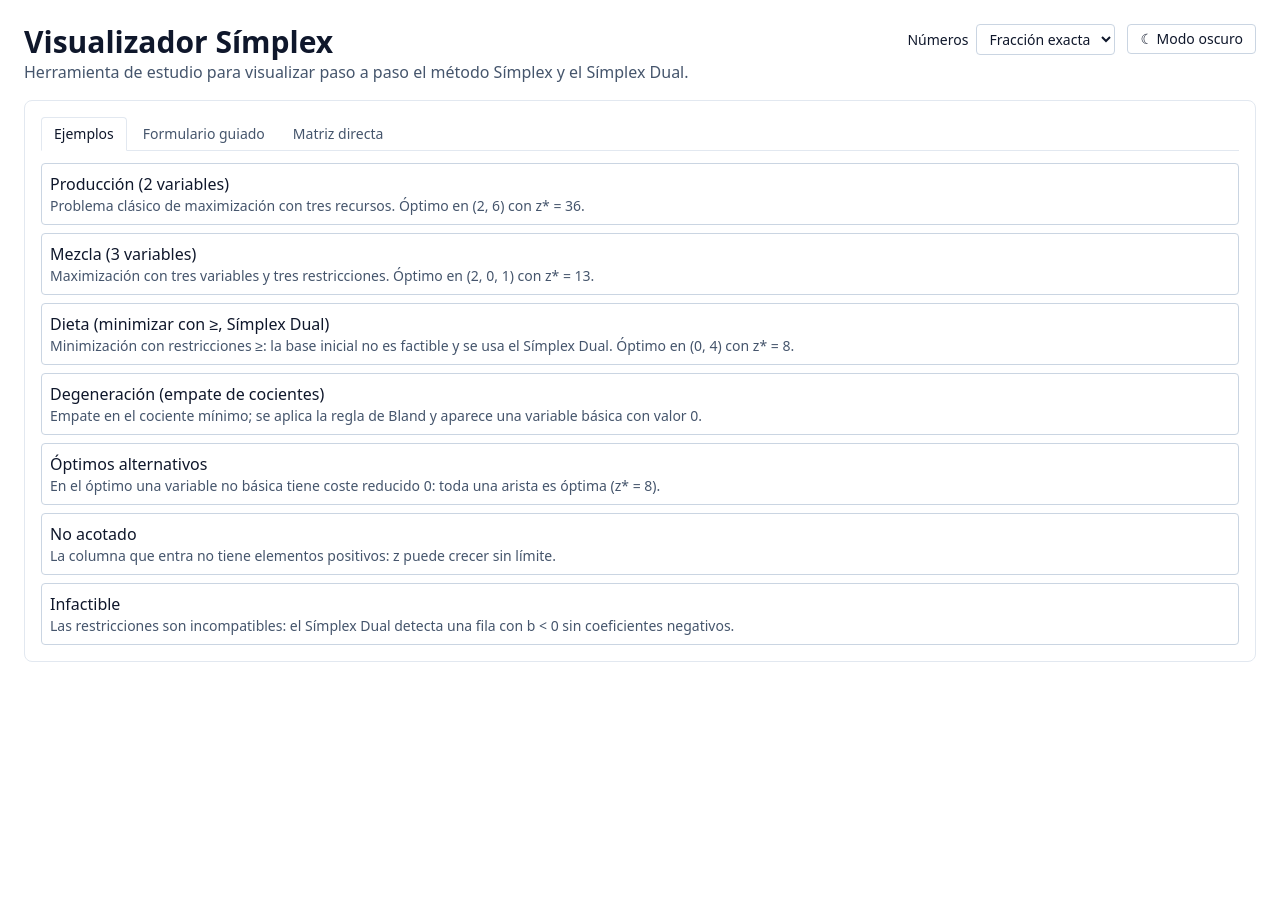
Test: App › muestra el problema original y la forma estándar
Click the button "Producción (2 variables)": (139, 184) [41, 163, 1239, 225]
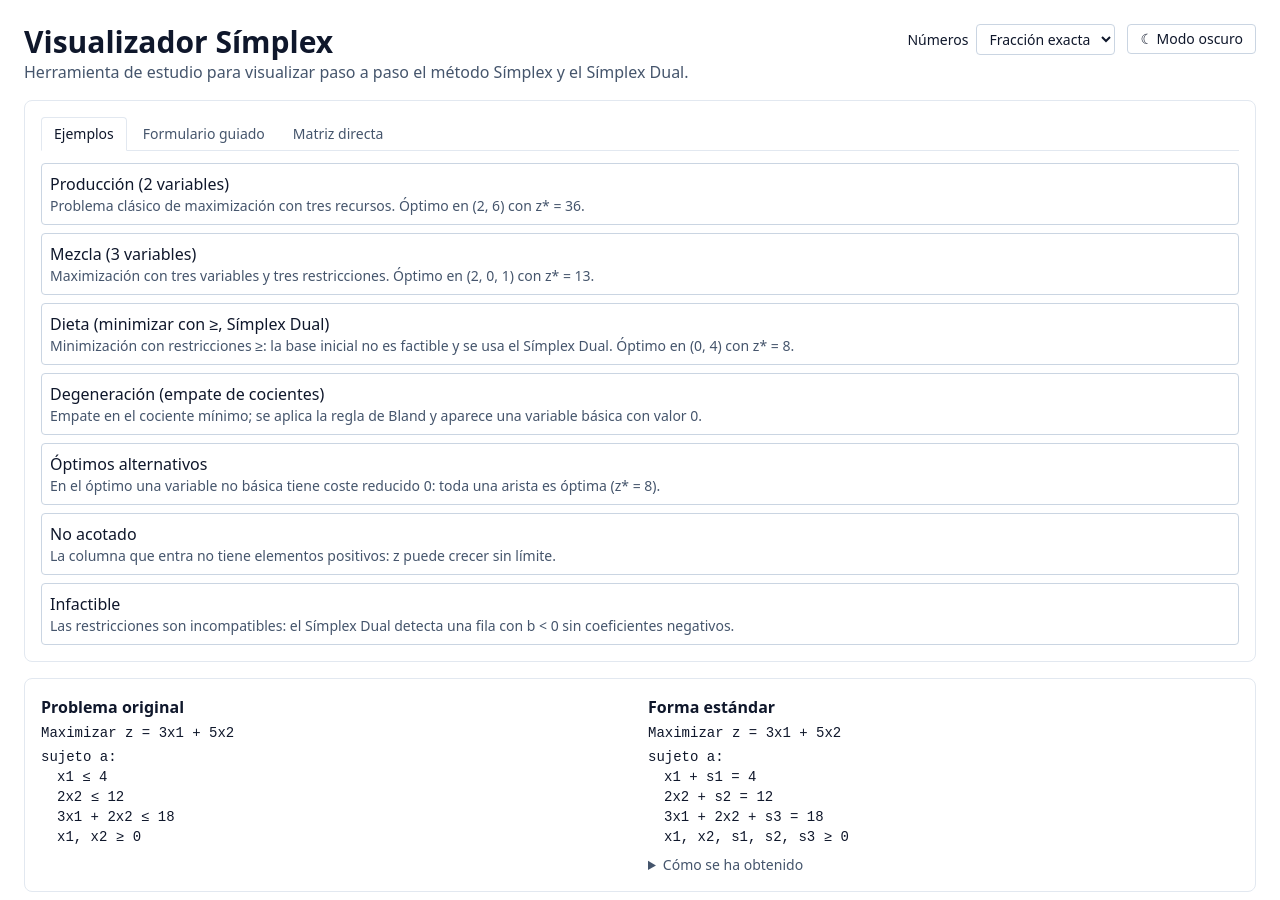
Expected: the text "Maximizar z = 3x1 + 5x2" is shown 2 times, [41, 725, 234, 741]; [648, 725, 841, 741]
Expected: the list item "3x1 + 2x2 + s3 = 18" is shown, [664, 809, 824, 825]
